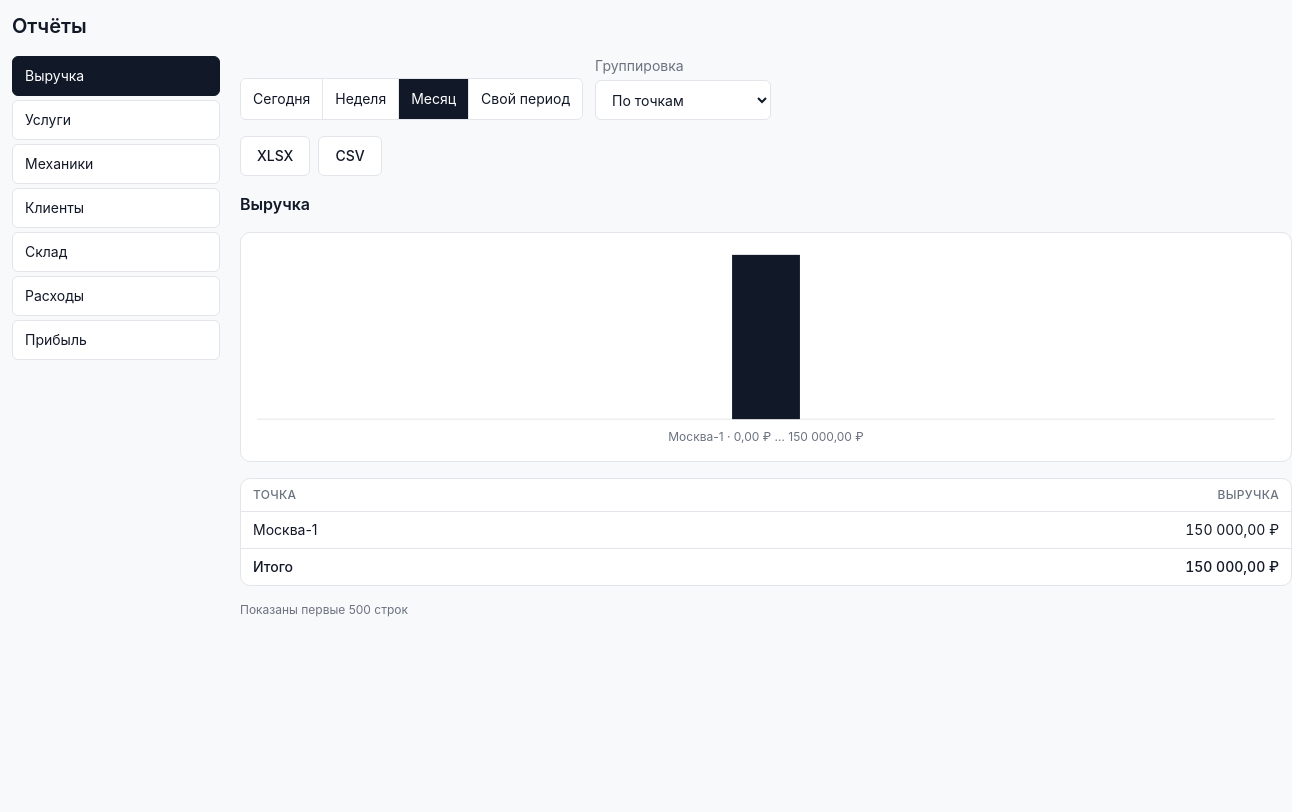
Test: D-02 отчёты › имя механика ведёт на его карточку по user_id; пометка об усечённых строках
Expected: the text "Показаны первые 500 строк" is shown, x1=240 y1=602 x2=408 y2=617
Click the button "Механики" at point(116, 164), box x1=12 y1=144 x2=220 y2=184
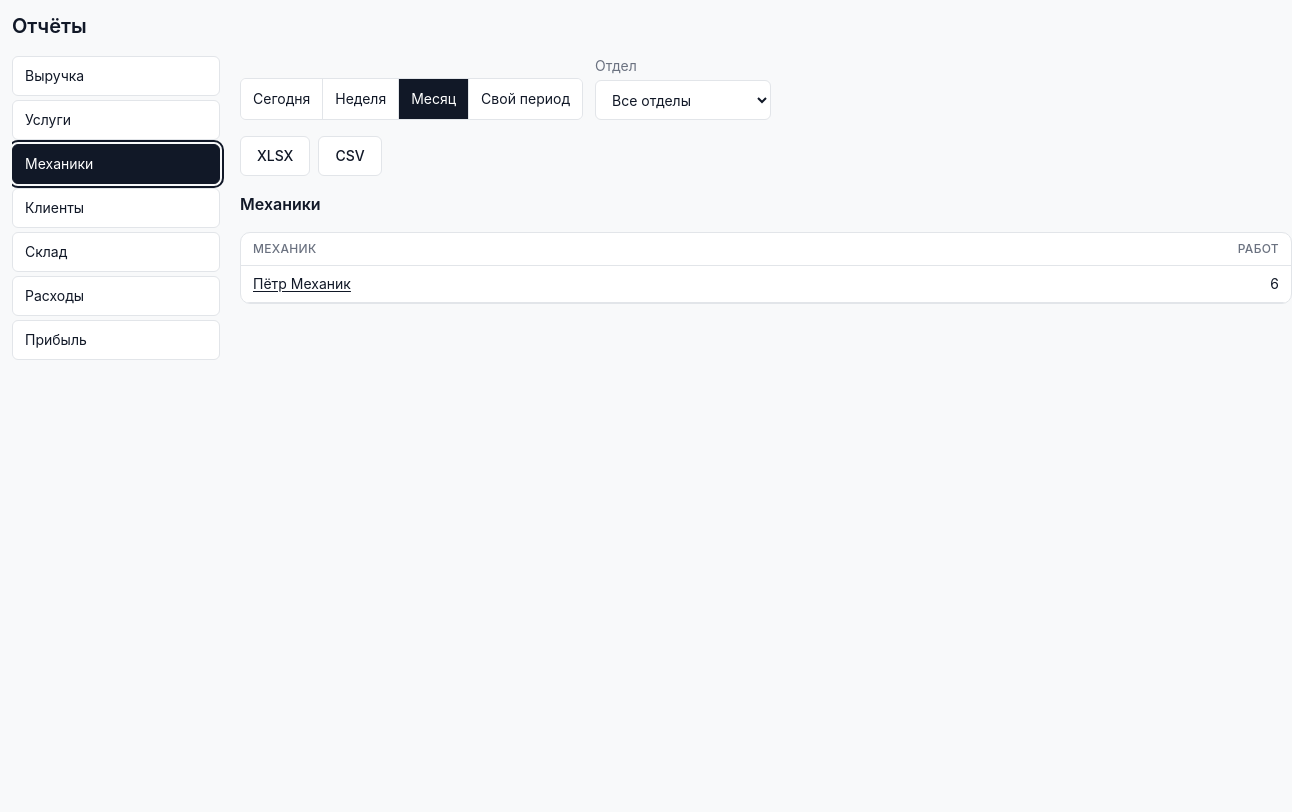
Expected: the text "Показаны первые 500 строк" is gone
Expected: the dropdown labelled "Отдел" is shown, x1=595 y1=80 x2=771 y2=120
